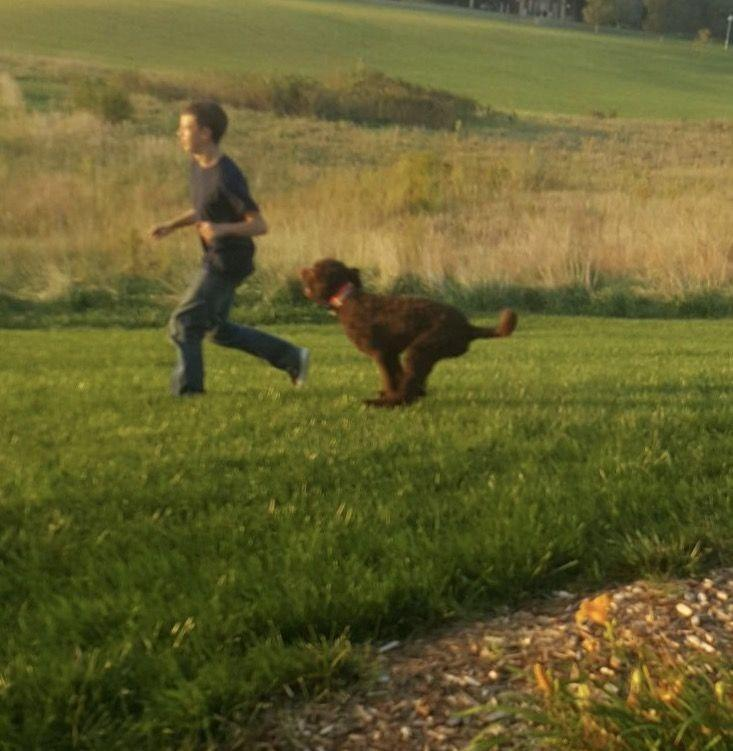adult_dog: (297, 257, 521, 409)
non-dog: (148, 94, 311, 398)
